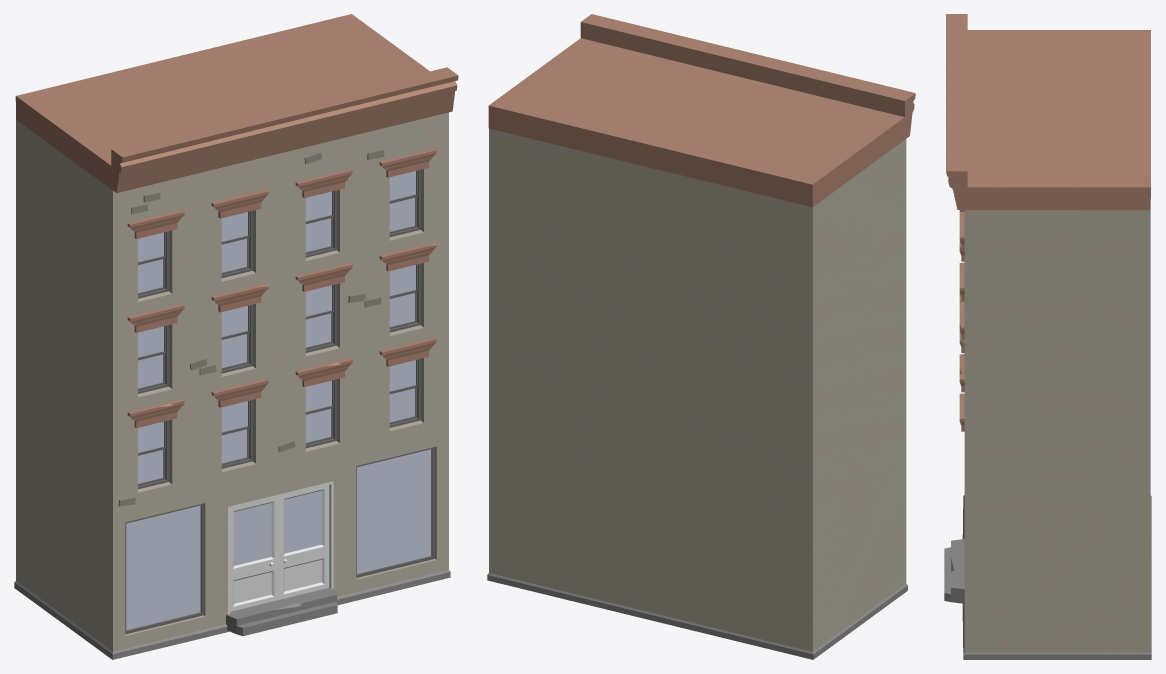
Rendered from pp-green.glb.
3 renders of one model, left to right at view 1: azimuth 30°, elevation 25°; view 2: azimuth 150°, elevation 25°; view 3: azimuth 270°, elevation 25°, orthographic. The views are drawn at different scales.
Parts seen in each view (by area): view 1: BuildingGreen; view 2: BuildingGreen; view 3: BuildingGreen.
Part boxes in pixels (box(x1,y1,x2,y2)): BuildingGreen: box(14, 14, 458, 659); BuildingGreen: box(487, 14, 915, 659); BuildingGreen: box(944, 14, 1151, 659).
Bounding box in the file's own units: 2.42 × 3.48 × 1.34.
2 materials, 2 textured.
